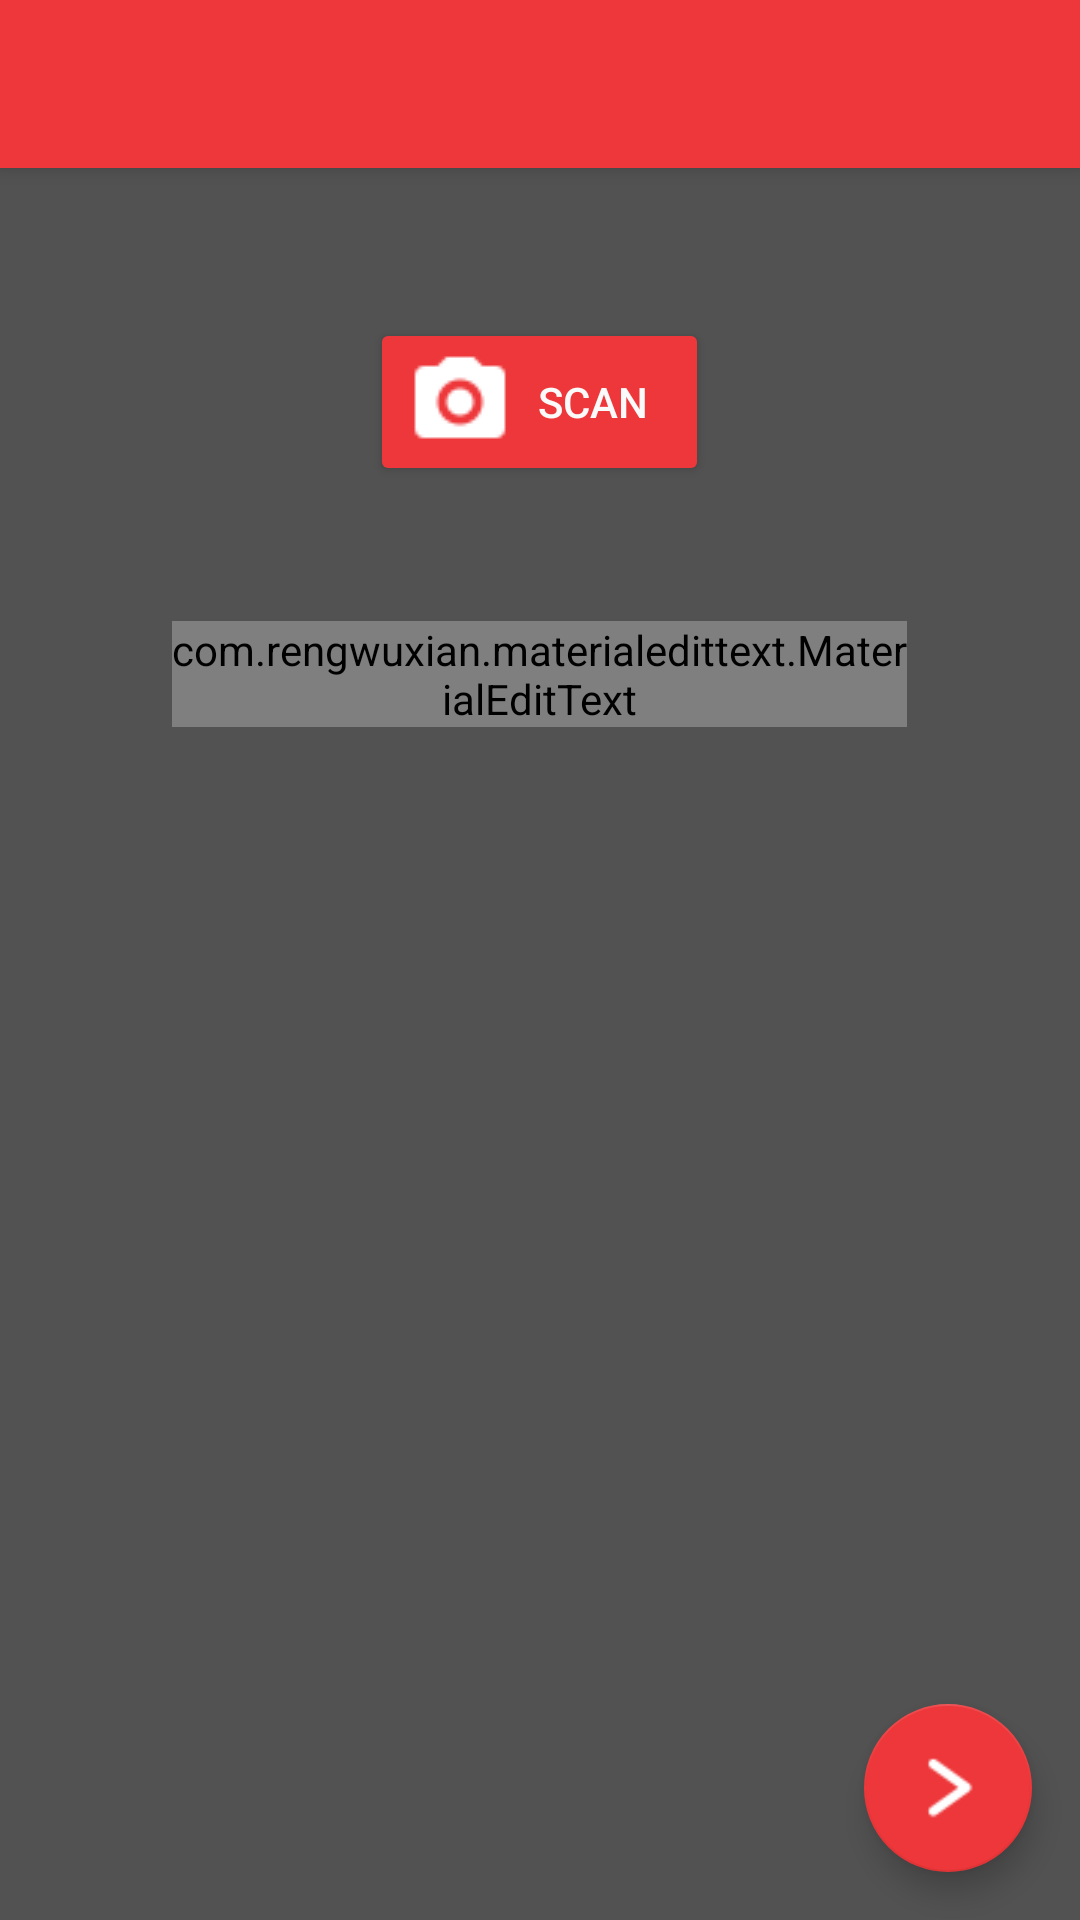

Icon click points for this 1080x1920 phone screenshot, format (x,y):
forward: (948,1788)
